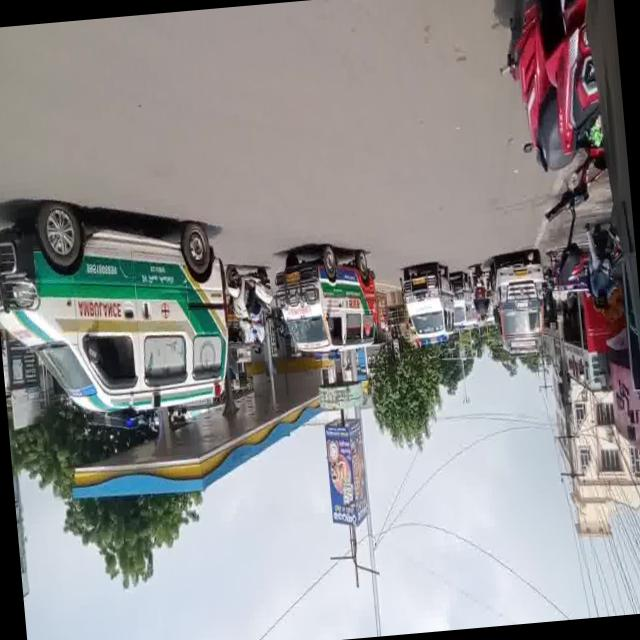ambulance: (0, 207, 234, 442), (272, 236, 381, 364), (486, 255, 554, 362), (400, 259, 460, 346)
